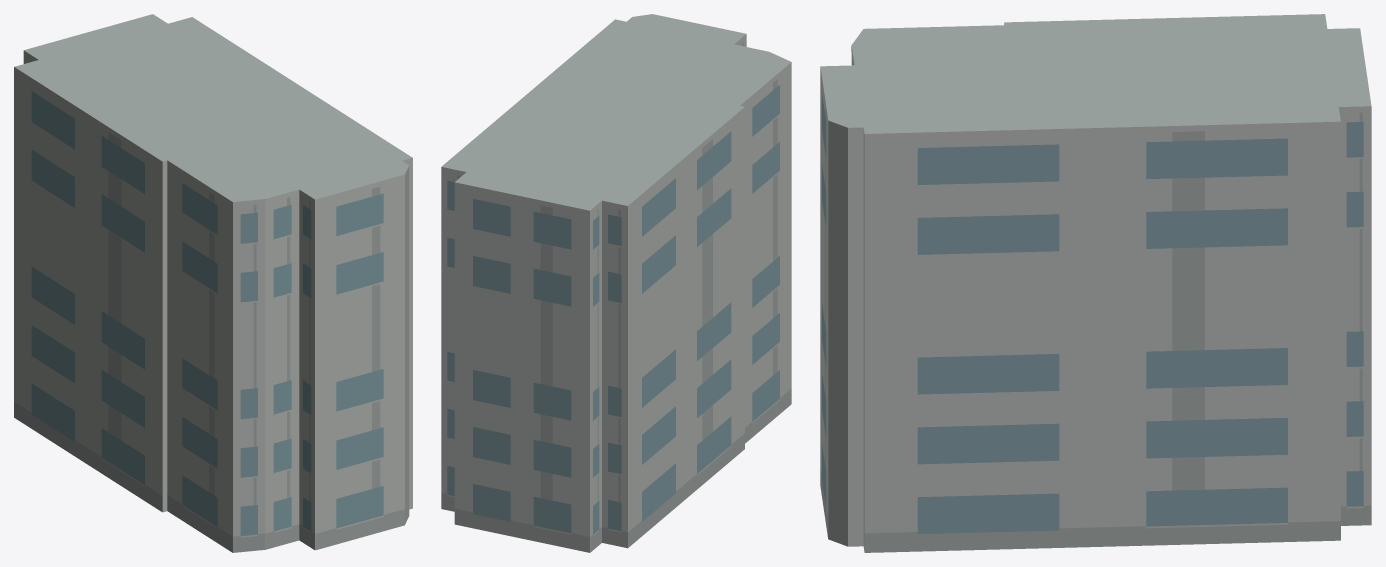
File: survey-upis-33026898.glb
3 renders of one model, left to right at view 1: azimuth 30°, elevation 25°; view 2: azimuth 150°, elevation 25°; view 3: azimuth 270°, elevation 25°, orthographic. The views are drawn at different scales.
Parts seen in each view (by area): view 1: survey-upis-33026898.tmp; view 2: survey-upis-33026898.tmp; view 3: survey-upis-33026898.tmp.
Part boxes in pixels (left/top/right/bottom): survey-upis-33026898.tmp: left=14, top=14, right=412, bottom=552; survey-upis-33026898.tmp: left=441, top=14, right=791, bottom=552; survey-upis-33026898.tmp: left=820, top=14, right=1371, bottom=552.
Size of the model in its own units: 10.42 by 16.95 by 20.22.
